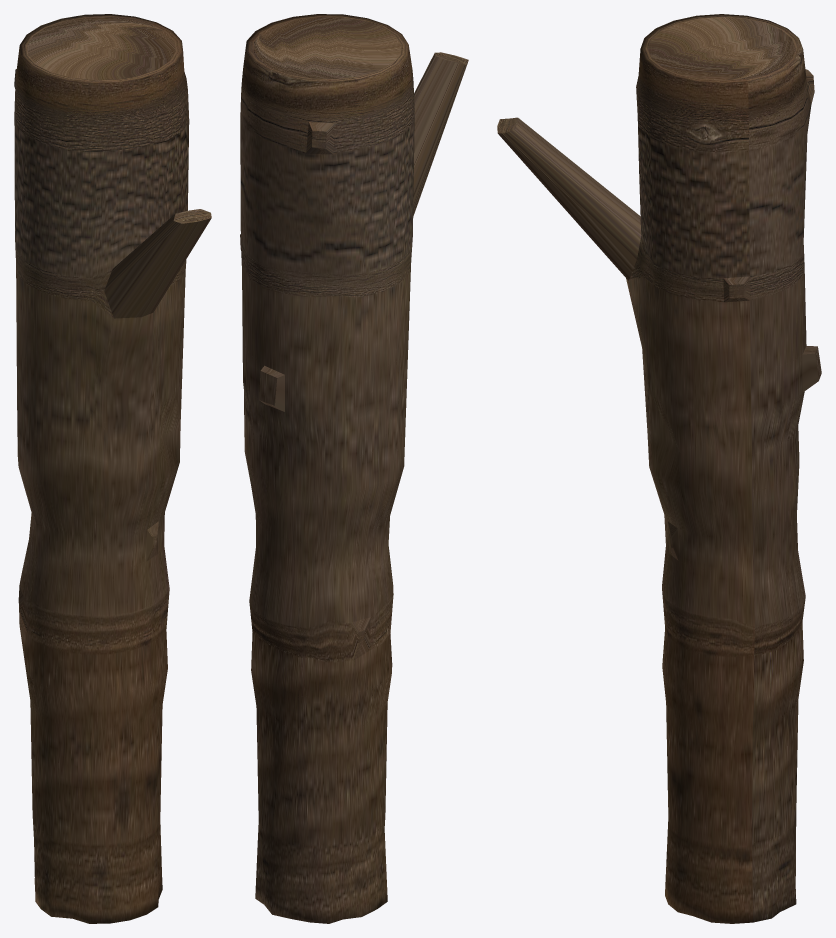
File: stick.fbx
3 views of the same model, side by side, from view 1: azimuth 30°, elevation 25°; view 2: azimuth 150°, elevation 25°; view 3: azimuth 270°, elevation 25° (orthographic).
Parts seen in each view (by area): view 1: pSphere1; view 2: pSphere1; view 3: pSphere1.
Boxes of the visible parts, bbox=[...] form: pSphere1: bbox=[14, 14, 211, 923]; pSphere1: bbox=[240, 14, 468, 923]; pSphere1: bbox=[497, 14, 821, 923].
Bounding box in the file's own units: 1.97 × 10.38 × 3.59.
1 material, 1 textured.
